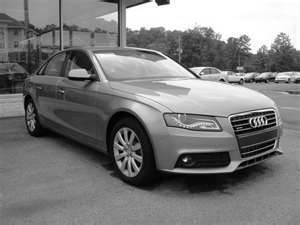car: (23, 46, 284, 189)
